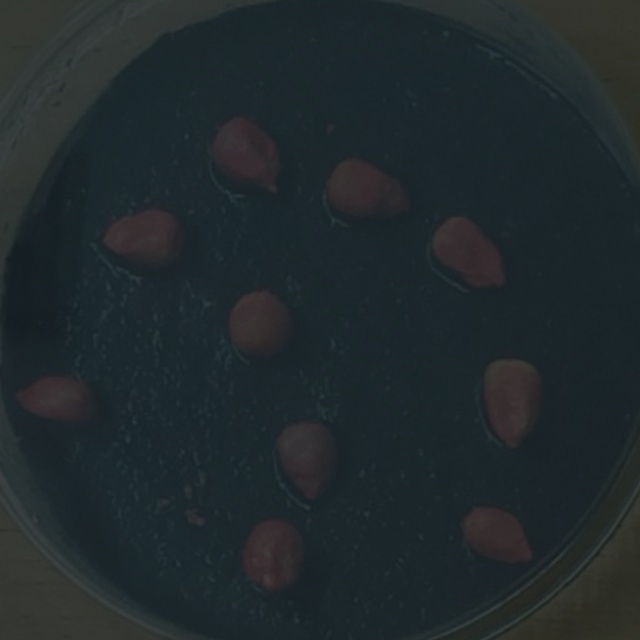Zea mays: (420, 206, 515, 299), (473, 348, 551, 458), (204, 111, 289, 207), (318, 151, 420, 229), (92, 201, 194, 277), (268, 414, 347, 512), (233, 509, 312, 604), (454, 495, 544, 577), (220, 279, 302, 369), (5, 368, 105, 436)
